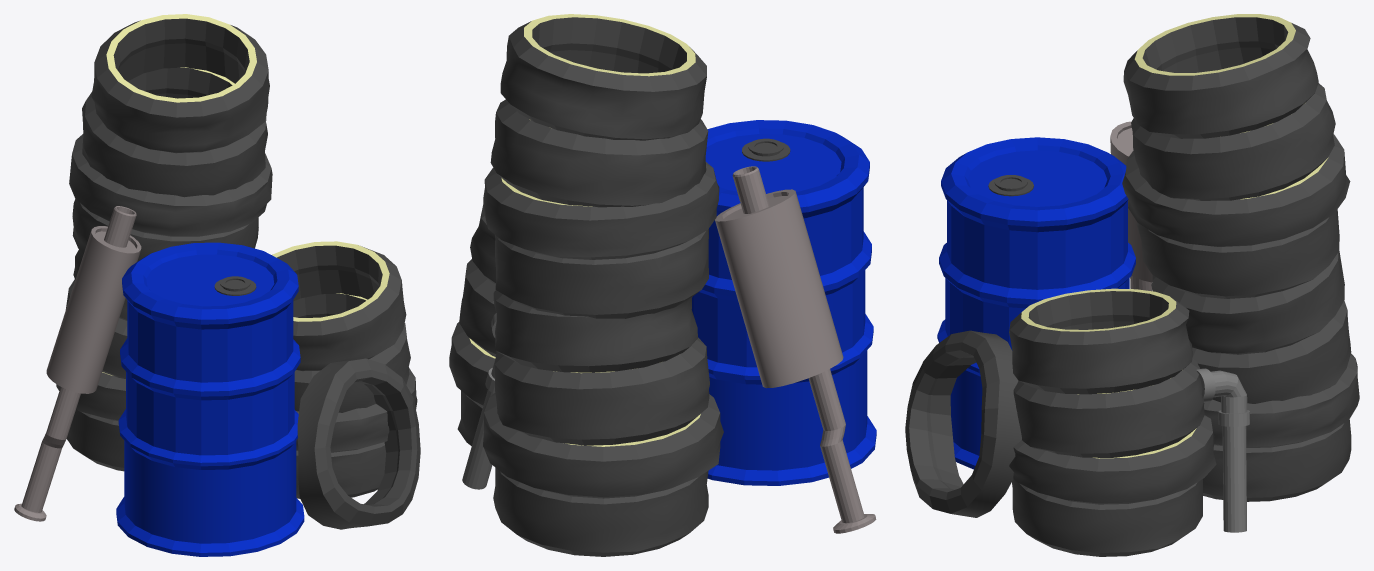
Rendered from Obstacle_1x1.fbx.
The picture shows the model from 3 angles, left to right: view 1: azimuth 30°, elevation 25°; view 2: azimuth 150°, elevation 25°; view 3: azimuth 270°, elevation 25°; orthographic projection. The views are drawn at different scales.
Parts seen in each view (by area): view 1: Obstacles_Junk1x1; view 2: Obstacles_Junk1x1; view 3: Obstacles_Junk1x1.
Boxes of the visible parts, left/top/right/bottom form: Obstacles_Junk1x1: left=14, top=14, right=420, bottom=556; Obstacles_Junk1x1: left=449, top=14, right=876, bottom=556; Obstacles_Junk1x1: left=905, top=14, right=1359, bottom=556.
Size of the model in its own units: 92.76 by 98.8 by 91.27.
